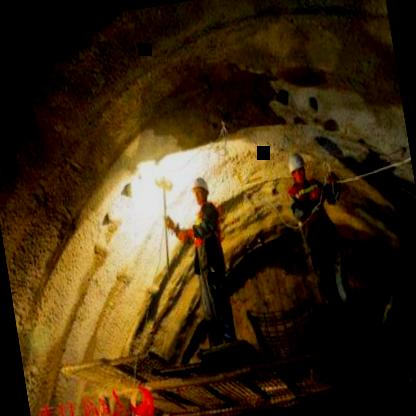helmet: (284, 150, 310, 190), (190, 172, 212, 209)
